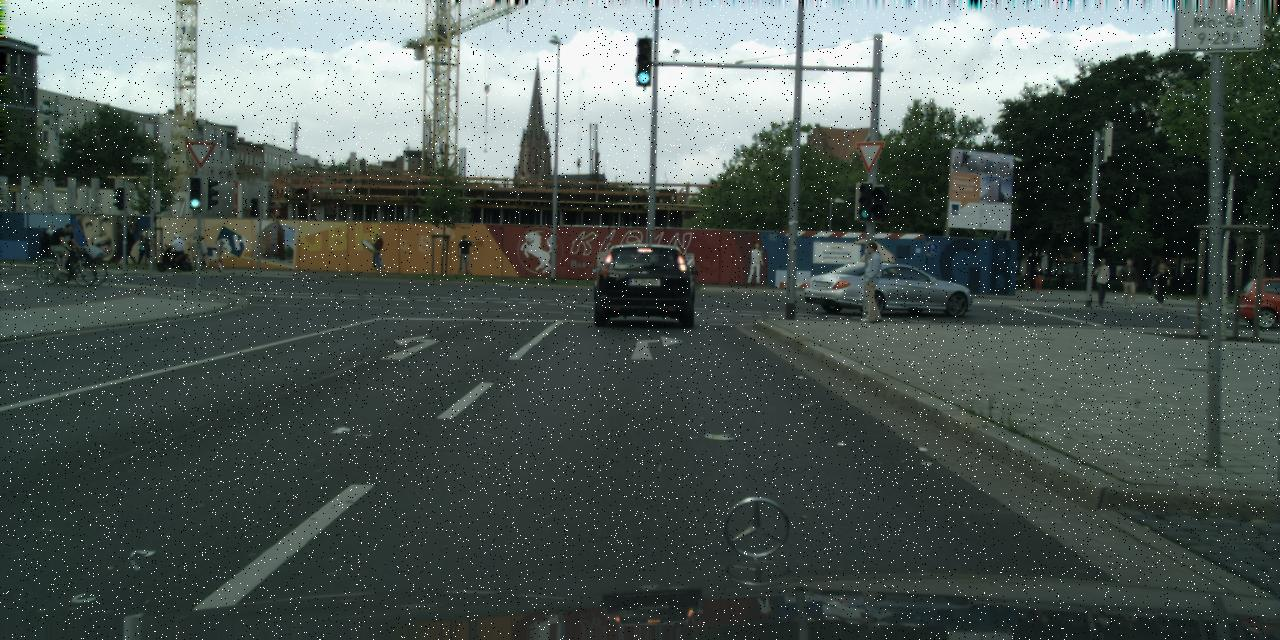ped: (857, 241, 889, 322), (1119, 257, 1139, 307), (57, 223, 77, 273), (1092, 258, 1112, 306), (1152, 261, 1170, 309), (1146, 257, 1162, 298), (168, 233, 181, 264), (1032, 260, 1044, 292)
